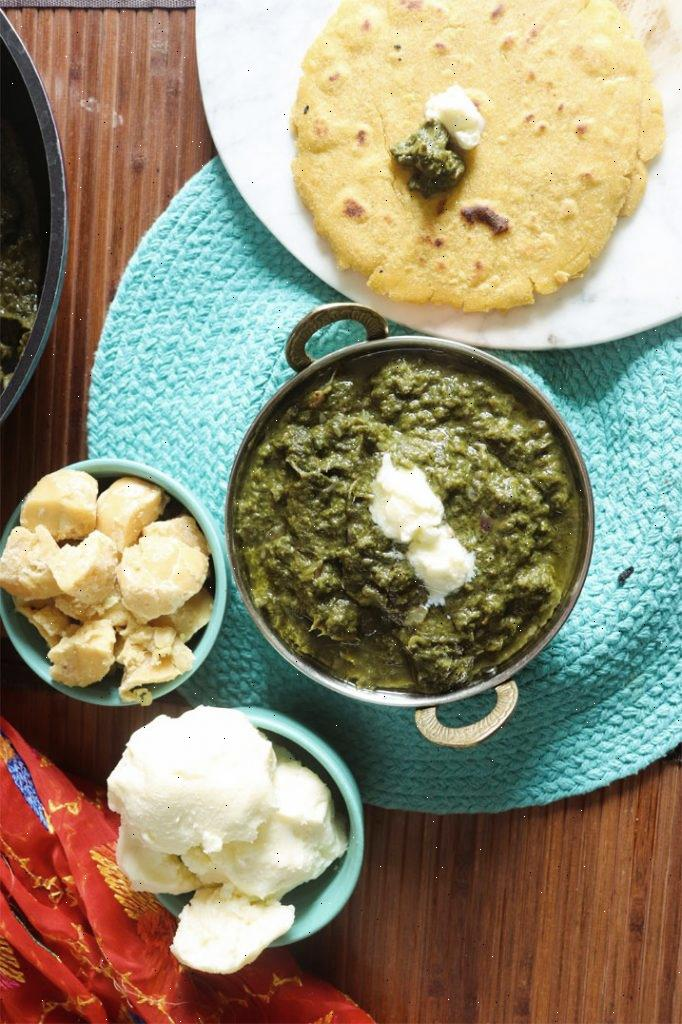saag: (238, 348, 578, 696)
